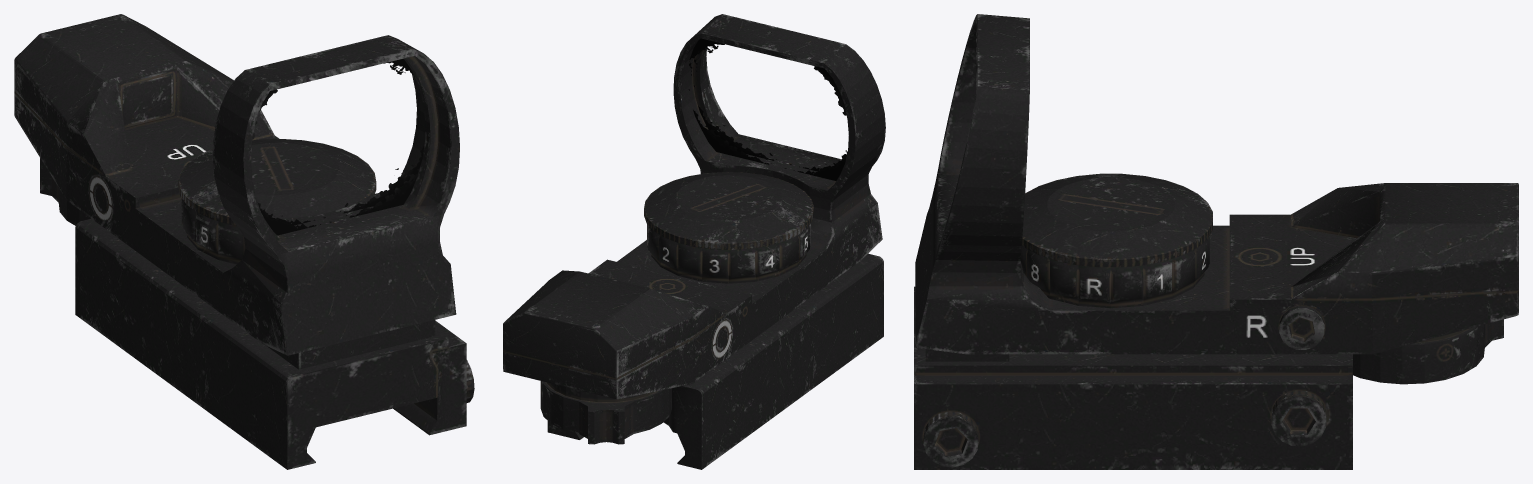
File: red_dot.fbx
3 views of the same model, side by side, from view 1: azimuth 30°, elevation 25°; view 2: azimuth 150°, elevation 25°; view 3: azimuth 270°, elevation 25° (orthographic). The views are drawn at different scales.
Parts seen in each view (by area): view 1: red_dot_01; view 2: red_dot_01; view 3: red_dot_01.
Part boxes in pixels (x1,y1,x2,y2): red_dot_01: [14, 14, 474, 469]; red_dot_01: [503, 14, 885, 469]; red_dot_01: [914, 14, 1518, 469].
Bounding box in the file's own units: 3.7 × 5.94 × 8.75.
1 material, 1 textured.
